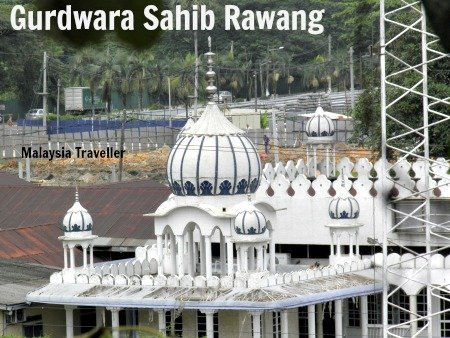Gurdwara: (46, 40, 449, 337)
